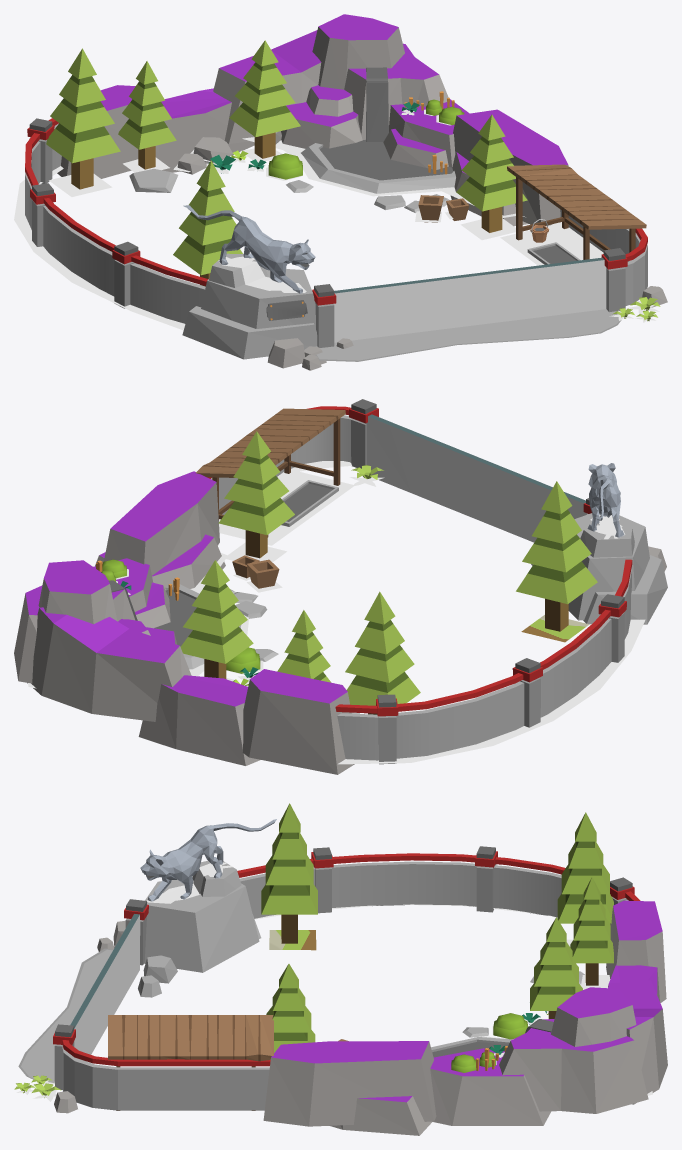
The model's file is xweilan_1001_4.FBX.
3 views of the same model, one above another, from view 1: azimuth 30°, elevation 25°; view 2: azimuth 150°, elevation 25°; view 3: azimuth 270°, elevation 25° (orthographic). The views are drawn at different scales.
Parts seen in each view (by area): view 1: xweilan_1001_4; view 2: xweilan_1001_4; view 3: xweilan_1001_4.
Boxes of the visible parts, box(x1,y1,x2,y2) form: xweilan_1001_4: box(14, 14, 667, 370); xweilan_1001_4: box(14, 399, 667, 774); xweilan_1001_4: box(14, 803, 667, 1135).
Bounding box in the file's own units: 4989 × 1630 × 6028.
